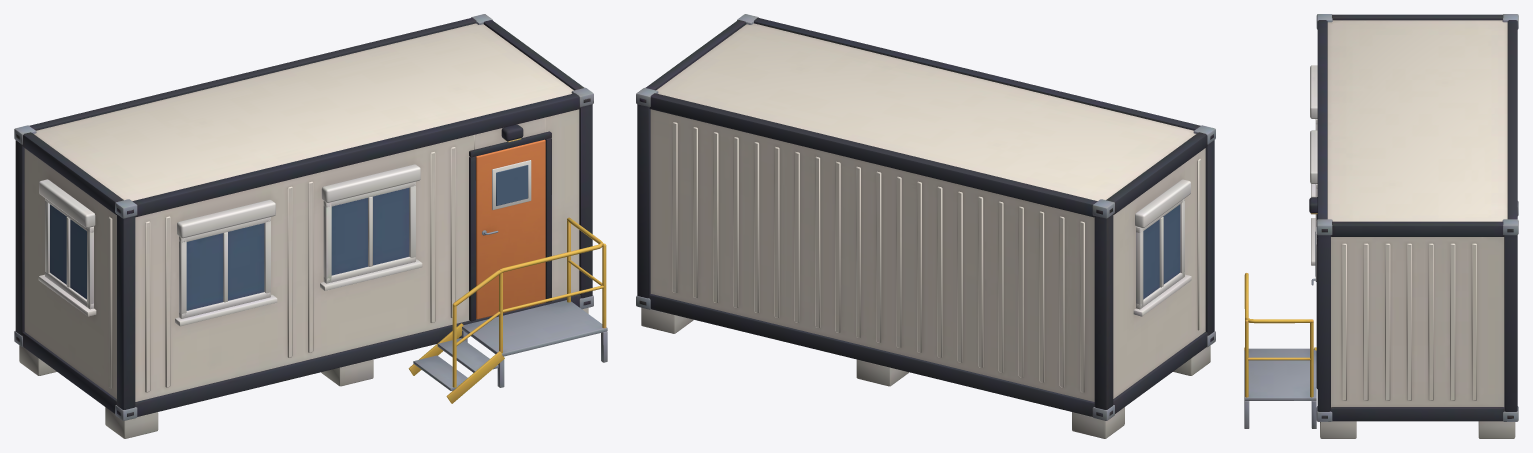
Rendered from bldg_site_office.glb.
The picture shows the model from 3 angles, left to right: view 1: azimuth 30°, elevation 25°; view 2: azimuth 150°, elevation 25°; view 3: azimuth 270°, elevation 25°; orthographic projection. The views are drawn at different scales.
Parts seen in each view (by area): view 1: site-office_body, site-office_door; view 2: site-office_body; view 3: site-office_body.
Boxes of the visible parts, x1=… form: site-office_body: x1=14, y1=14, x2=607, y2=438; site-office_door: x1=475, y1=139, x2=545, y2=319; site-office_body: x1=636, y1=14, x2=1215, y2=438; site-office_body: x1=1244, y1=14, x2=1518, y2=438.
Size of the model in its own units: 6.1 by 2.9 by 3.29.
Materials: 2 (2 with a texture image).
